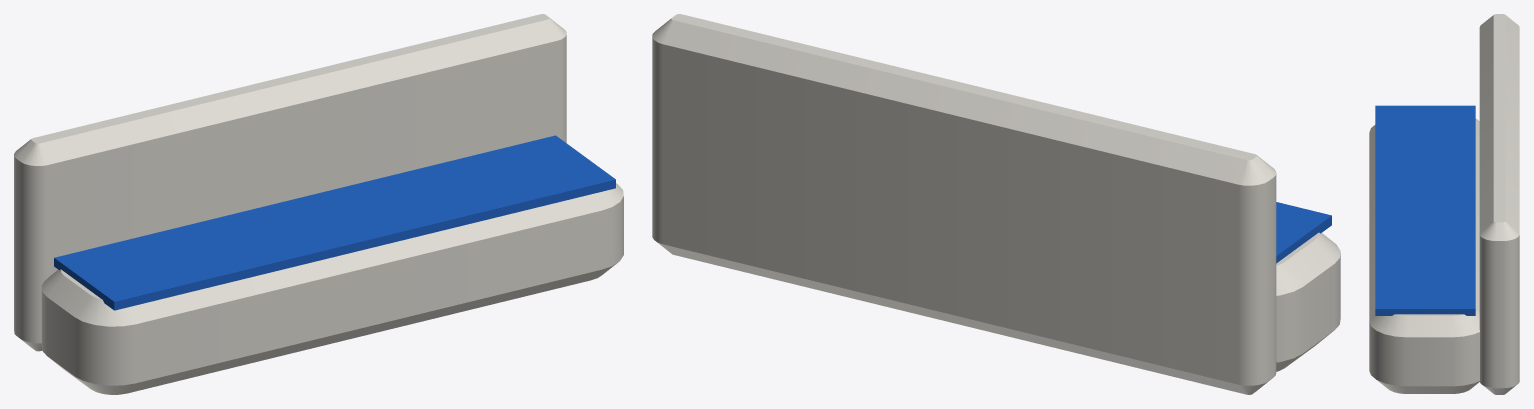
Rendered from bench.glb.
The picture shows the model from 3 angles, left to right: view 1: azimuth 30°, elevation 25°; view 2: azimuth 150°, elevation 25°; view 3: azimuth 270°, elevation 25°; orthographic projection. The views are drawn at different scales.
Parts seen in each view (by area): view 1: white1, white0, blue2; view 2: white1, white0, blue2; view 3: blue2, white1, white0.
Part boxes in pixels (x1,y1,x2,y2): white1: [14, 14, 566, 351]; white0: [41, 183, 623, 394]; blue2: [54, 135, 615, 310]; white1: [652, 14, 1276, 394]; white0: [1276, 232, 1340, 371]; blue2: [1276, 202, 1331, 263]; blue2: [1375, 105, 1475, 315]; white1: [1479, 14, 1519, 394]; white0: [1369, 118, 1479, 393].
Bounding box in the file's own units: 2.6 × 0.95 × 0.75.
